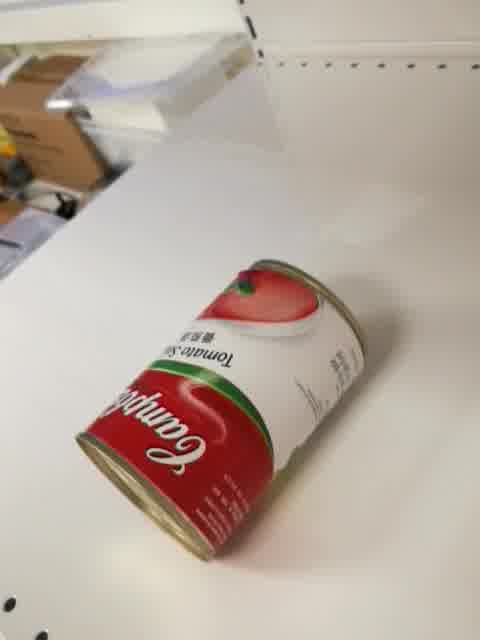tomatosoup: (74, 256, 372, 566)
